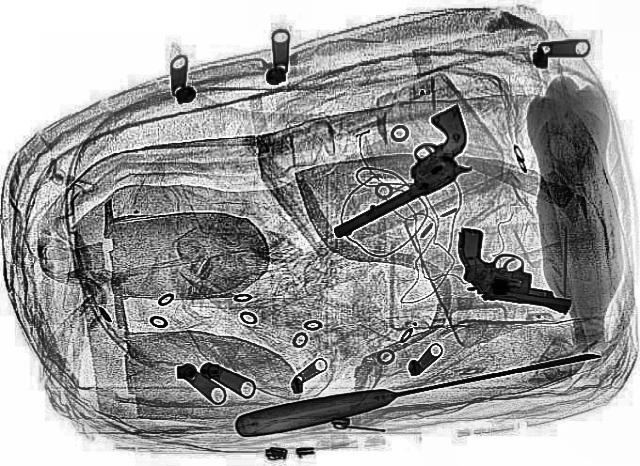Gun: (282, 104, 508, 240), (414, 221, 596, 330)
Knife: (230, 338, 608, 442)
